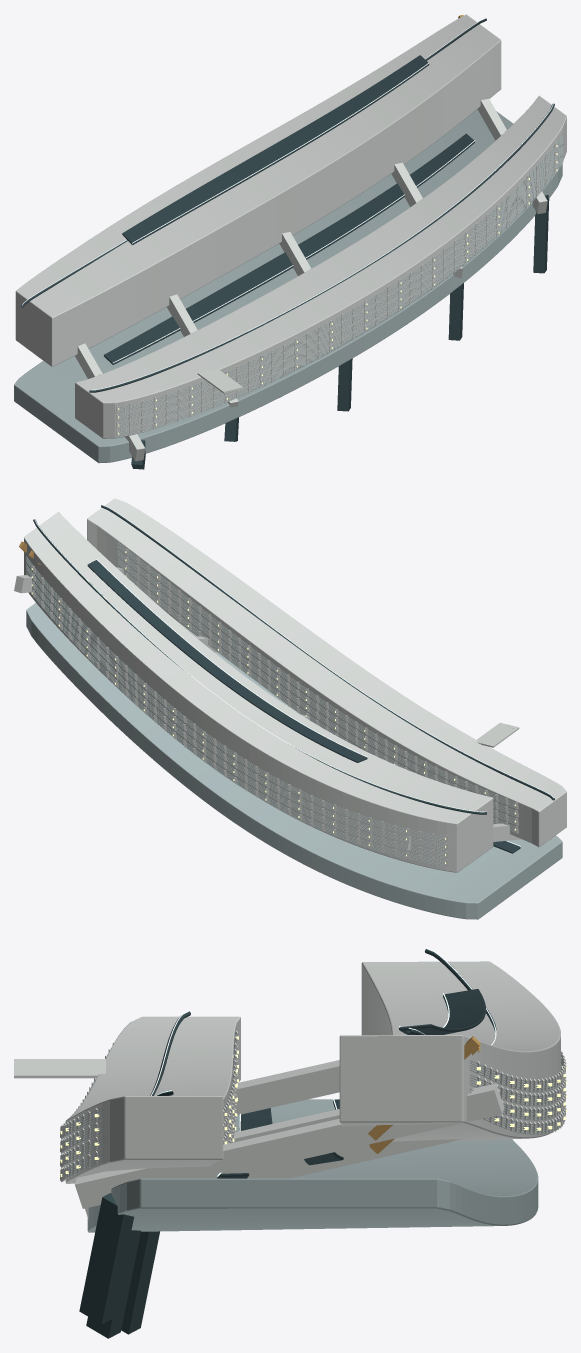
3 views of the same model, one above another, from view 1: azimuth 30°, elevation 25°; view 2: azimuth 150°, elevation 25°; view 3: azimuth 270°, elevation 25° (orthographic). The views are drawn at different scales.
Visible parts, largest first — view 1: A03 | rear high continent, A02 | front returned continent, A01 | lower inhabited tectonic keel, A30 | public inner promenade 1, A30 | public inner promenade 2, A40 | inhabited ridgeline transit, A11 | lower return column 4, A10 | oblique deep bulkhead 0, A10 | oblique deep bulkhead 4, A11 | lower return column 3, A10 | oblique deep bulkhead 3, A10 | oblique deep bulkhead 1 (+4 smaller); view 2: A03 | rear high continent, A02 | front returned continent, A01 | lower inhabited tectonic keel, A30 | public inner promenade 2, A40 | inhabited ridgeline transit, A40 | inhabited ridgeline transit.001, H01 | exterior public viewpoint connected into city edge, A41 | transit guideway, A41 | transit guideway.001; view 3: A03 | rear high continent, A01 | lower inhabited tectonic keel, A02 | front returned continent, A10 | oblique deep bulkhead 4, A11 | lower return column 4, A10 | oblique deep bulkhead 0, A10 | oblique deep bulkhead 3, A11 | lower return column 2, A30 | public inner promenade 2, H01 | exterior public viewpoint connected into city edge, A11 | lower return column 3, A10 | oblique deep bulkhead 1 (+2 smaller).
Part boxes in pixels (<box>): A03 | rear high continent: <box>15,14,501,366</box>; A02 | front returned continent: <box>75,95,566,438</box>; A01 | lower inhabited tectonic keel: <box>14,109,562,463</box>; A30 | public inner promenade 1: <box>103,133,474,364</box>; A30 | public inner promenade 2: <box>122,55,429,244</box>; A40 | inhabited ridgeline transit: <box>89,103,554,392</box>; A11 | lower return column 4: <box>533,195,549,273</box>; A10 | oblique deep bulkhead 0: <box>75,343,145,461</box>; A10 | oblique deep bulkhead 4: <box>477,98,547,214</box>; A11 | lower return column 3: <box>448,283,463,340</box>; A10 | oblique deep bulkhead 3: <box>391,162,462,278</box>; A10 | oblique deep bulkhead 1: <box>167,294,238,406</box>; A03 | rear high continent: <box>24,512,493,872</box>; A02 | front returned continent: <box>87,498,566,847</box>; A01 | lower inhabited tectonic keel: <box>26,603,562,919</box>; A30 | public inner promenade 2: <box>87,560,367,762</box>; A40 | inhabited ridgeline transit: <box>101,505,554,800</box>; A40 | inhabited ridgeline transit.001: <box>33,519,486,814</box>; H01 | exterior public viewpoint connected into city edge: <box>477,722,519,747</box>; A41 | transit guideway: <box>101,504,553,797</box>; A41 | transit guideway.001: <box>34,518,486,812</box>; A03 | rear high continent: <box>339,961,560,1141</box>; A01 | lower inhabited tectonic keel: <box>87,1099,538,1232</box>; A02 | front returned continent: <box>65,1016,240,1183</box>; A10 | oblique deep bulkhead 4: <box>74,1083,504,1208</box>; A11 | lower return column 4: <box>79,1193,134,1324</box>; A10 | oblique deep bulkhead 0: <box>236,1060,339,1115</box>; A10 | oblique deep bulkhead 3: <box>85,1139,462,1219</box>; A11 | lower return column 2: <box>121,1231,159,1334</box>; A30 | public inner promenade 2: <box>399,989,485,1034</box>; H01 | exterior public viewpoint connected into city edge: <box>14,1059,105,1078</box>; A11 | lower return column 3: <box>86,1230,140,1338</box>; A10 | oblique deep bulkhead 1: <box>233,1109,339,1142</box>.
Size of the model in its own units: 6120 by 3672 by 3612.
